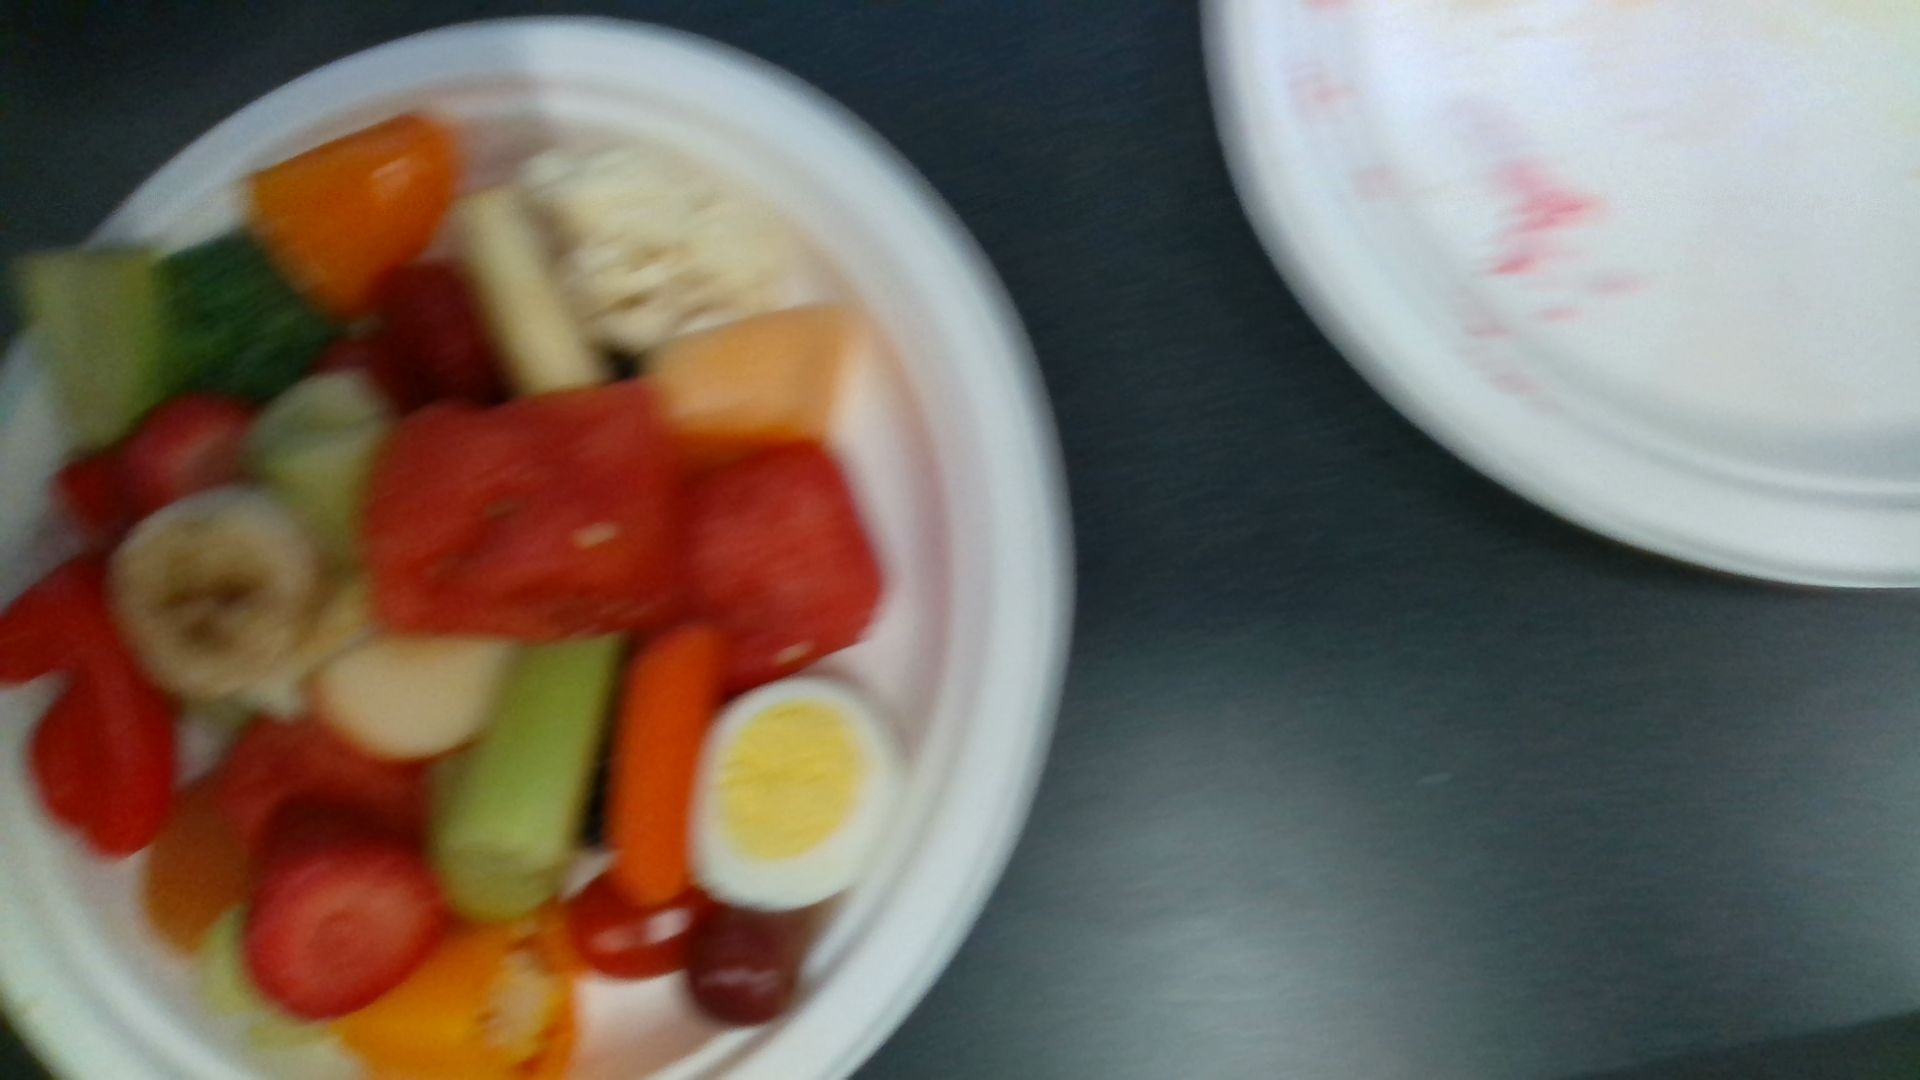apple: (305, 636, 517, 766)
apricot: (149, 771, 252, 955)
banana: (109, 488, 310, 694)
bell_pepper: (1, 553, 175, 858), (249, 108, 459, 315), (338, 898, 575, 1080)
broccoli: (150, 233, 342, 405)
cantalope: (640, 305, 857, 448)
carrot: (615, 628, 719, 909)
cauliflower: (516, 141, 795, 348)
celery: (440, 640, 617, 918), (32, 243, 154, 446)
cherry_tomato: (570, 876, 713, 981)
egg: (692, 680, 905, 910)
grape_purple: (688, 910, 794, 1023)
melon: (365, 375, 700, 638), (669, 444, 880, 686)
strawberry: (249, 800, 442, 1018)
